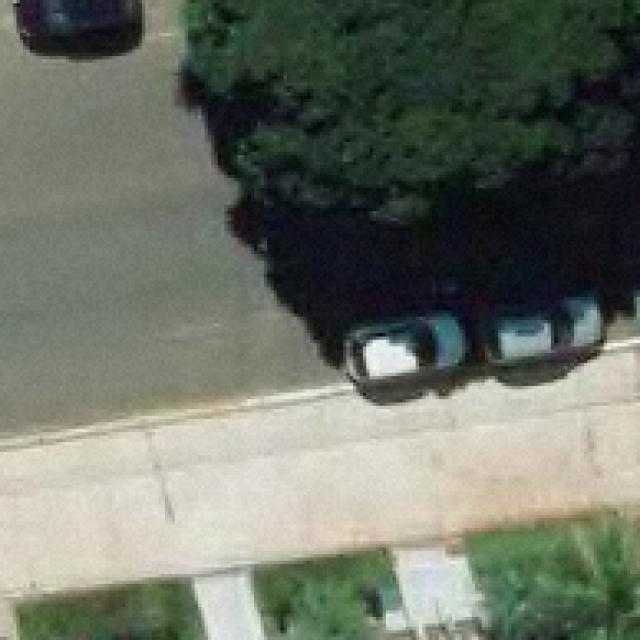trees: (189, 1, 640, 220), (469, 512, 640, 640), (258, 552, 400, 640)
